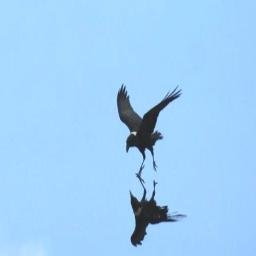Crow: (115, 83, 184, 180)
